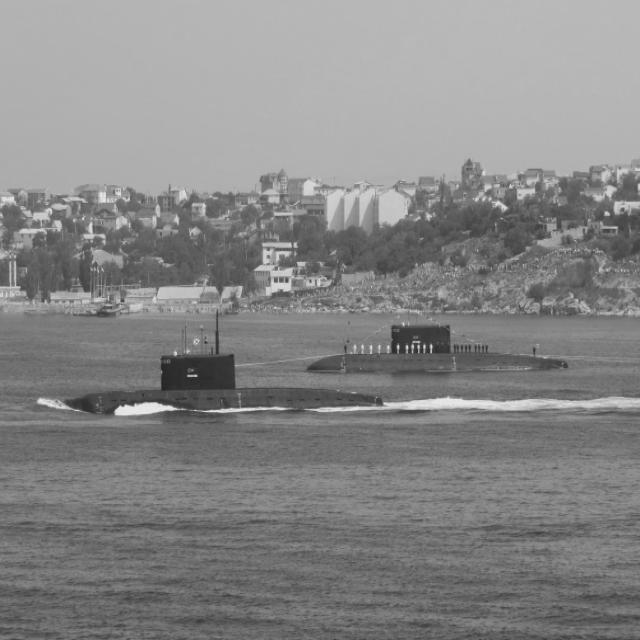submarine: (58, 306, 386, 418), (302, 319, 579, 372)
